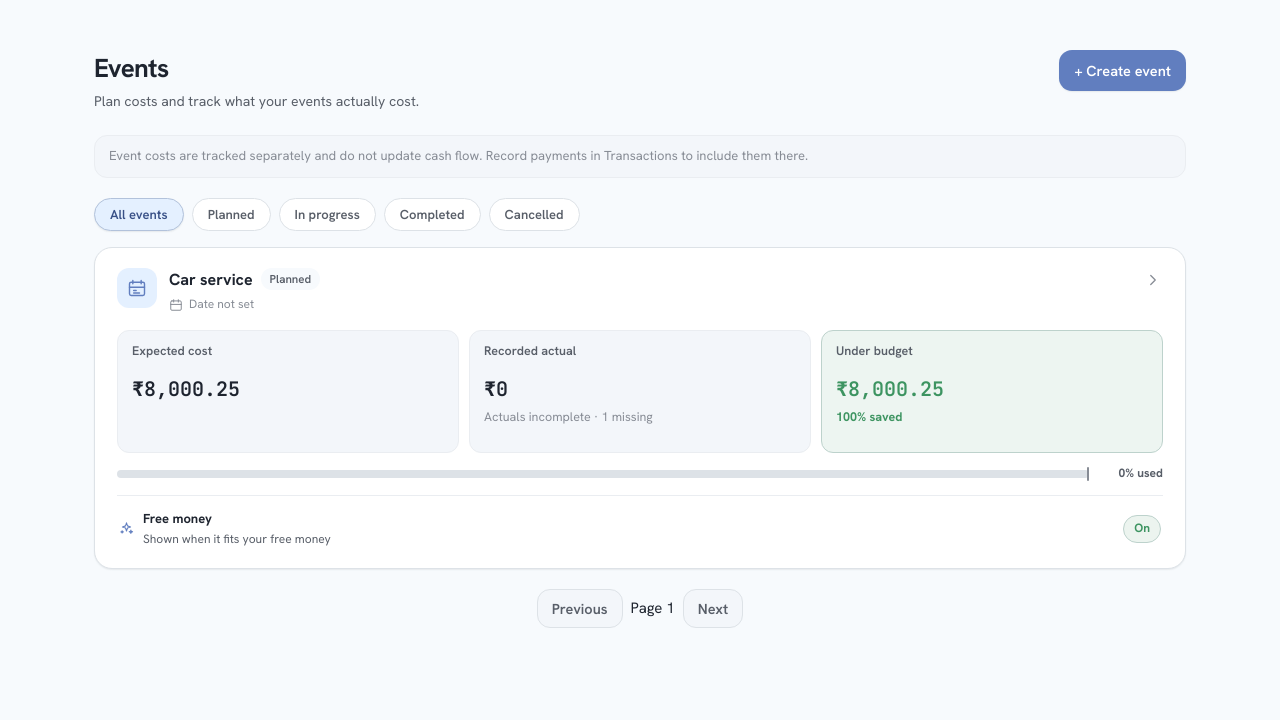
Test: Events list › renders server summaries, links, status filter, and next page
Expected: the text "Date not set" is shown, [169,296,254,313]
Expected: the text "Under budget" is shown, [836,342,913,359]
Click the button "Next": (713, 608) [683,589,743,628]
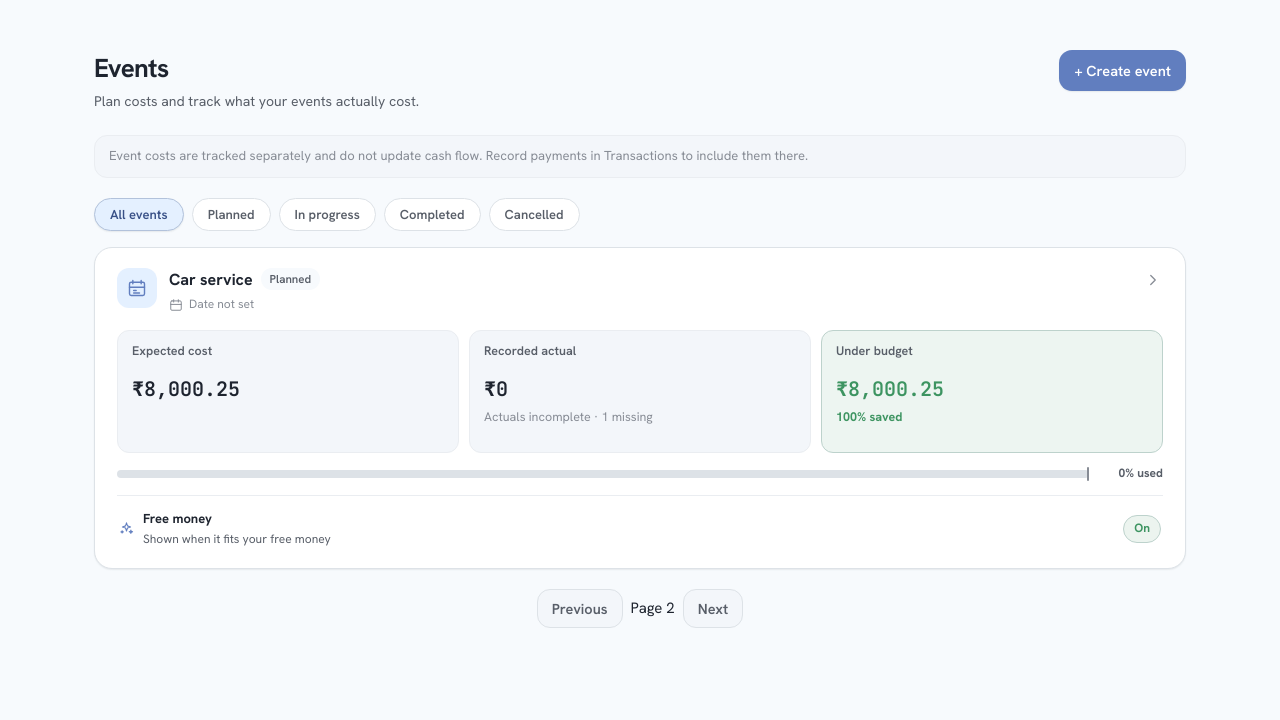
Now the text "Page 2" is shown, box [631,598,675,620]
Click the tab "Planned": (231, 214) [192,198,271,231]
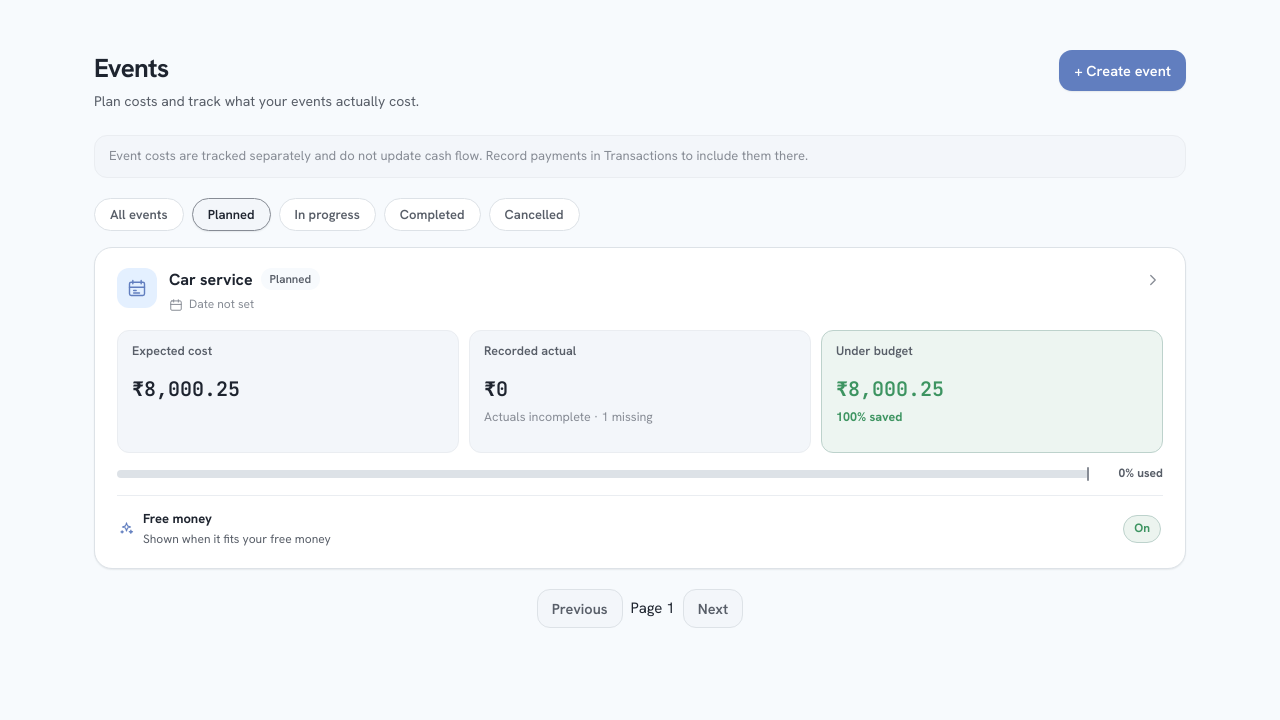
Now the text "Page 1" is shown, box [631,598,675,620]
